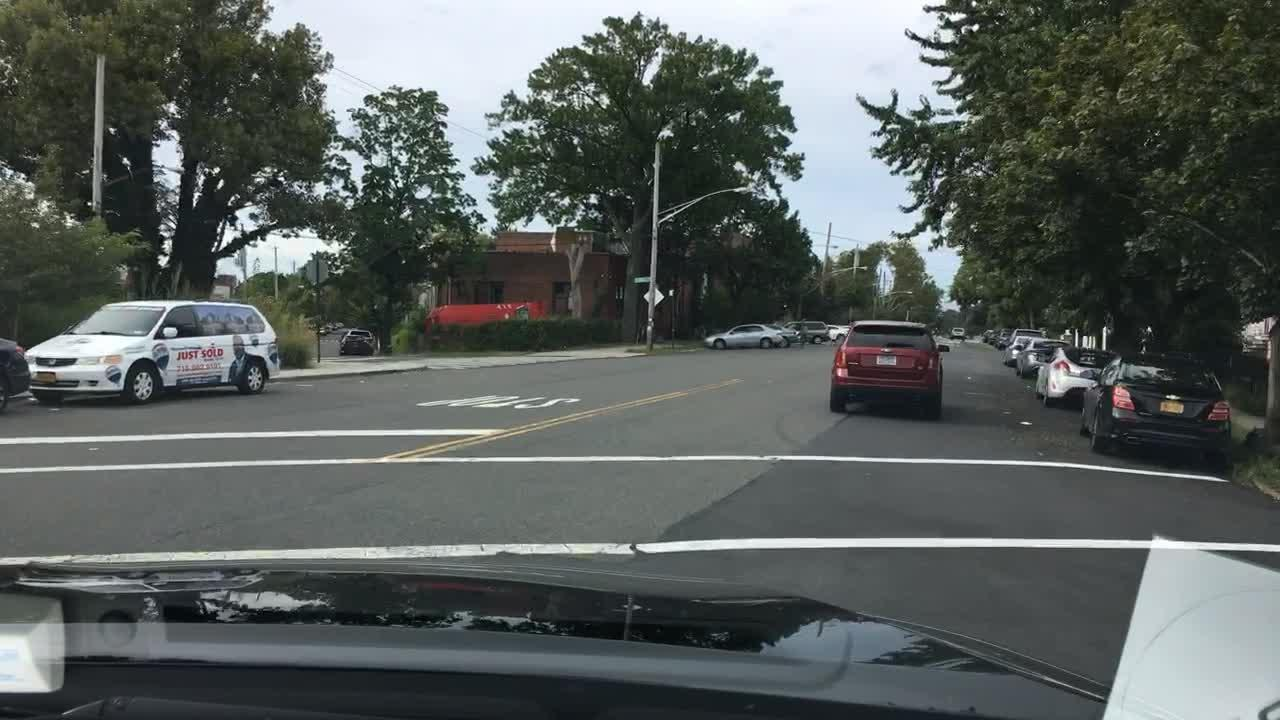chevrolet: (1160, 390, 1183, 404)
